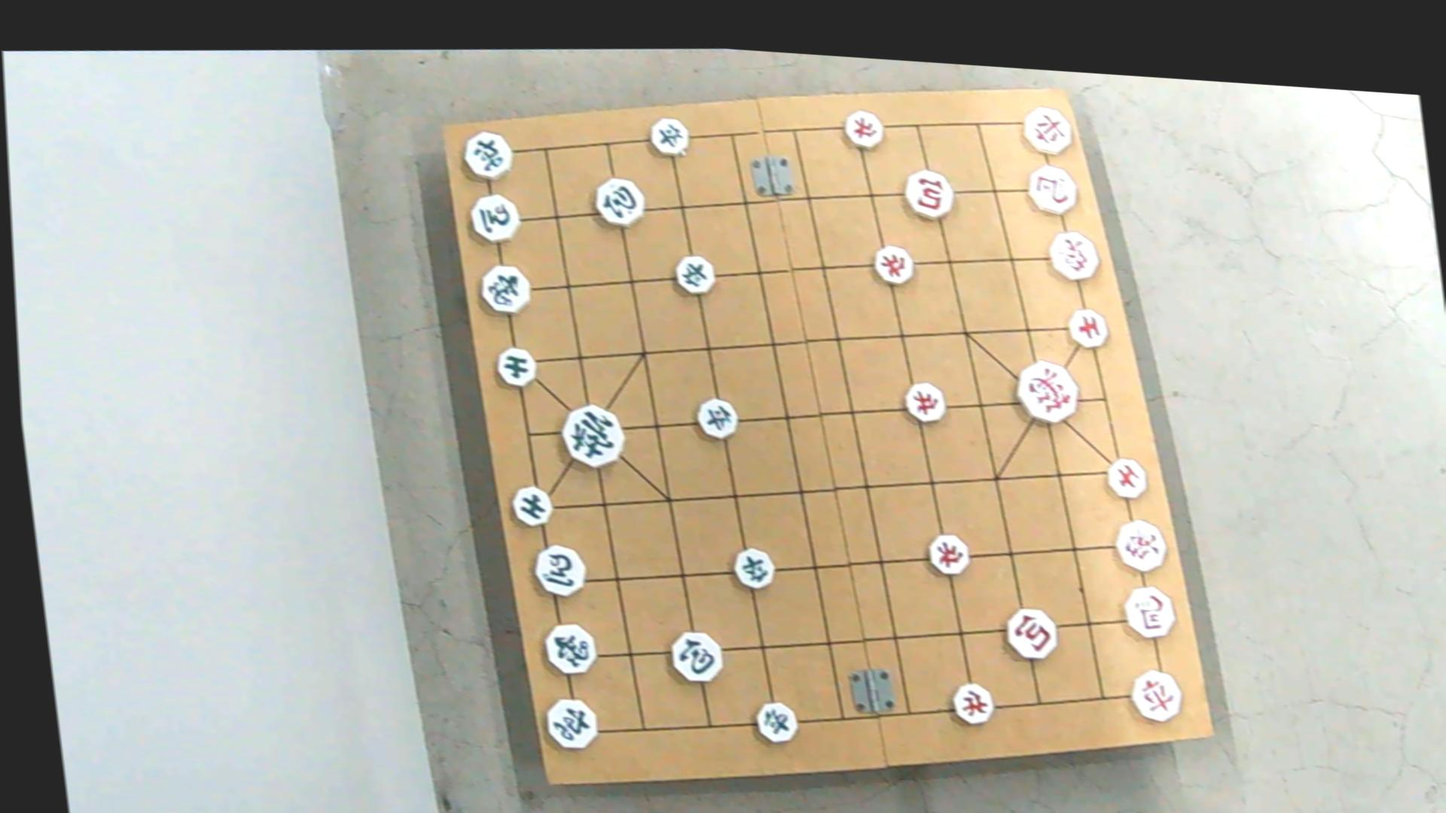cha_green: (541, 696, 603, 751), (457, 129, 516, 180)
cha_red: (1126, 665, 1185, 723), (1021, 107, 1078, 157)
jol_green: (749, 700, 798, 743), (690, 396, 740, 438), (729, 547, 778, 589), (670, 254, 718, 295), (642, 117, 688, 158)
jol_red: (922, 533, 970, 576), (949, 681, 996, 724), (899, 381, 947, 422), (867, 243, 914, 283), (838, 108, 885, 146)
ma_green: (527, 541, 587, 595), (465, 188, 523, 239)
ma_red: (1121, 585, 1178, 639), (1020, 163, 1077, 215)
po_green: (587, 173, 646, 230), (664, 629, 725, 684)
po_red: (1003, 607, 1062, 660), (901, 169, 957, 221)
sa_green: (508, 481, 556, 523), (492, 348, 538, 387)
sa_red: (1105, 455, 1152, 497), (1063, 307, 1109, 347)
sang_green: (543, 620, 597, 676), (472, 263, 531, 314)
sang_red: (1112, 519, 1170, 571), (1043, 231, 1100, 283)
wang_green: (557, 404, 626, 468)
wang_red: (1008, 357, 1082, 425)
